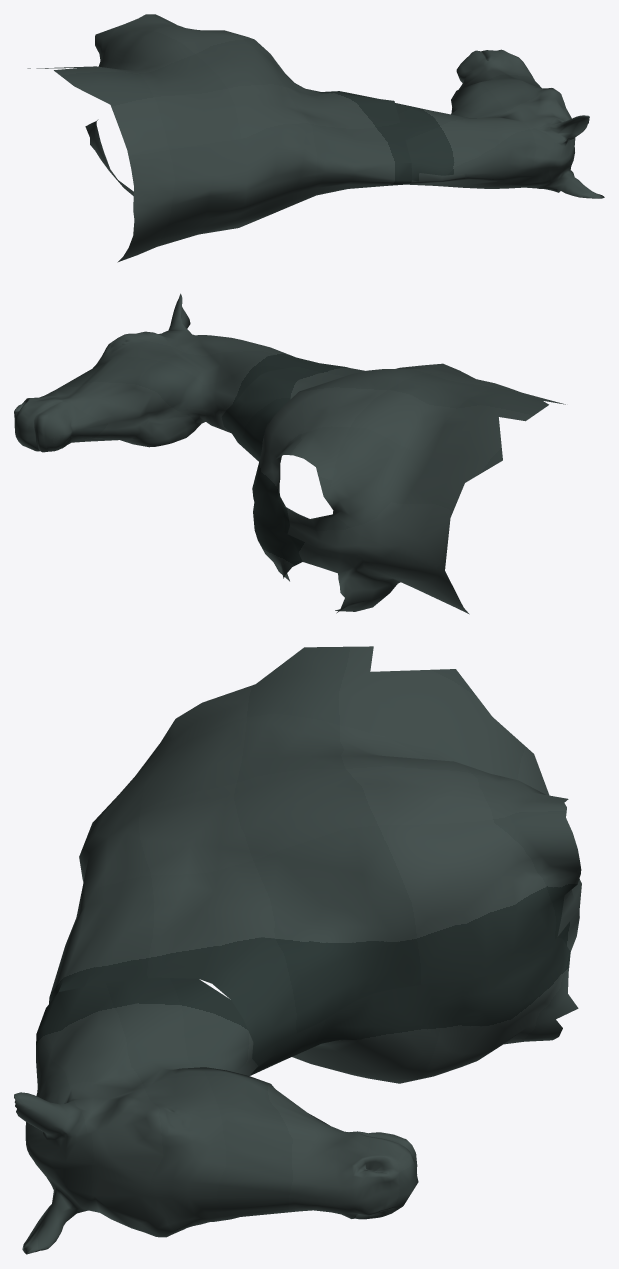
Rendered from viewmodel_default.glb.
The picture shows the model from 3 angles, top to bottom: view 1: azimuth 30°, elevation 25°; view 2: azimuth 150°, elevation 25°; view 3: azimuth 270°, elevation 25°; orthographic projection. The views are drawn at different scales.
Bounding box in the file's own units: 66.33 × 24.26 × 44.29.
1 material, 1 textured.
